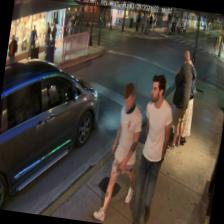person: (93, 80, 149, 224), (130, 73, 179, 224)
